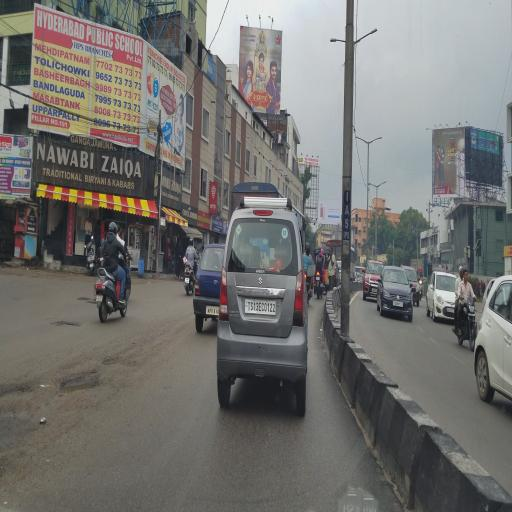street_light_0: (319, 22, 351, 54), (350, 24, 382, 54), (368, 129, 388, 149), (347, 128, 367, 148), (362, 170, 378, 194), (375, 173, 391, 196)
